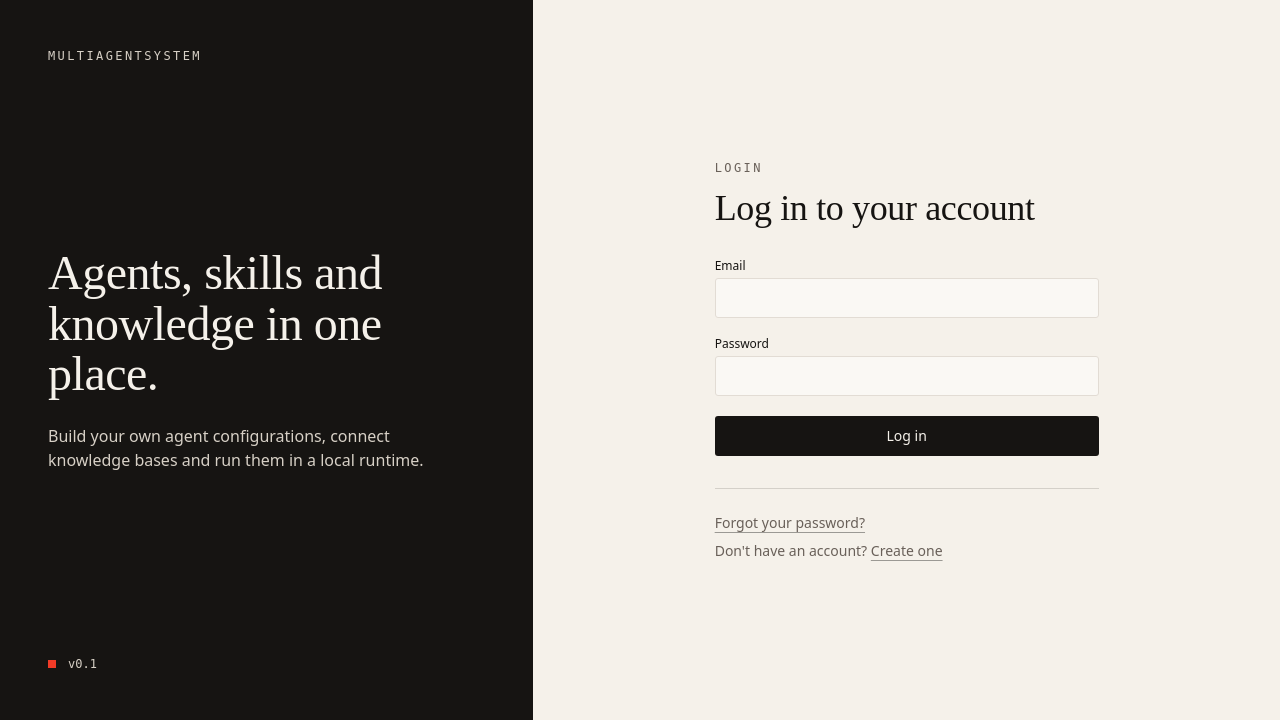
Scenario: login page › successful login opens the profile
Step 1. Type "alice@example.com" into the field labelled "Email" → x=907, y=298, box [715,278,1099,318]
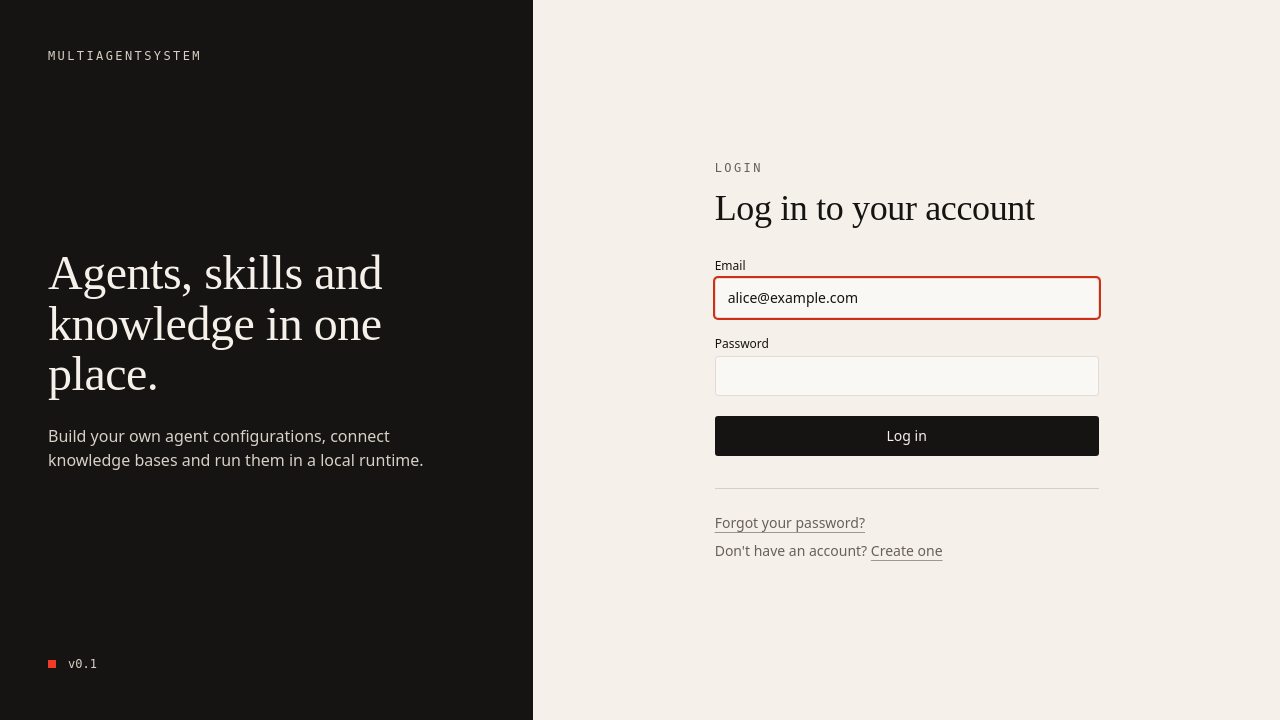
Step 2. Type "Passw0rdAA" into the password field labelled "Password" → x=907, y=376, box [715,356,1099,396]
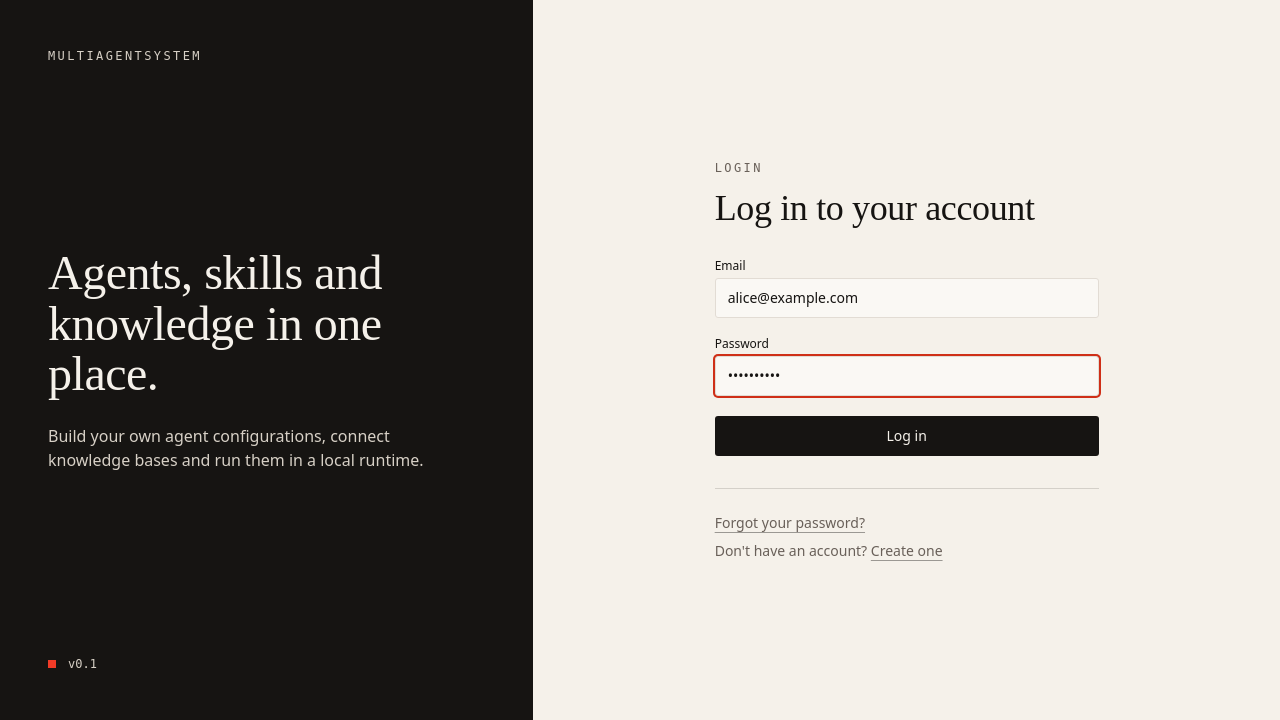
Step 3. Click the button "Log in" → x=907, y=436, box [715,416,1099,456]
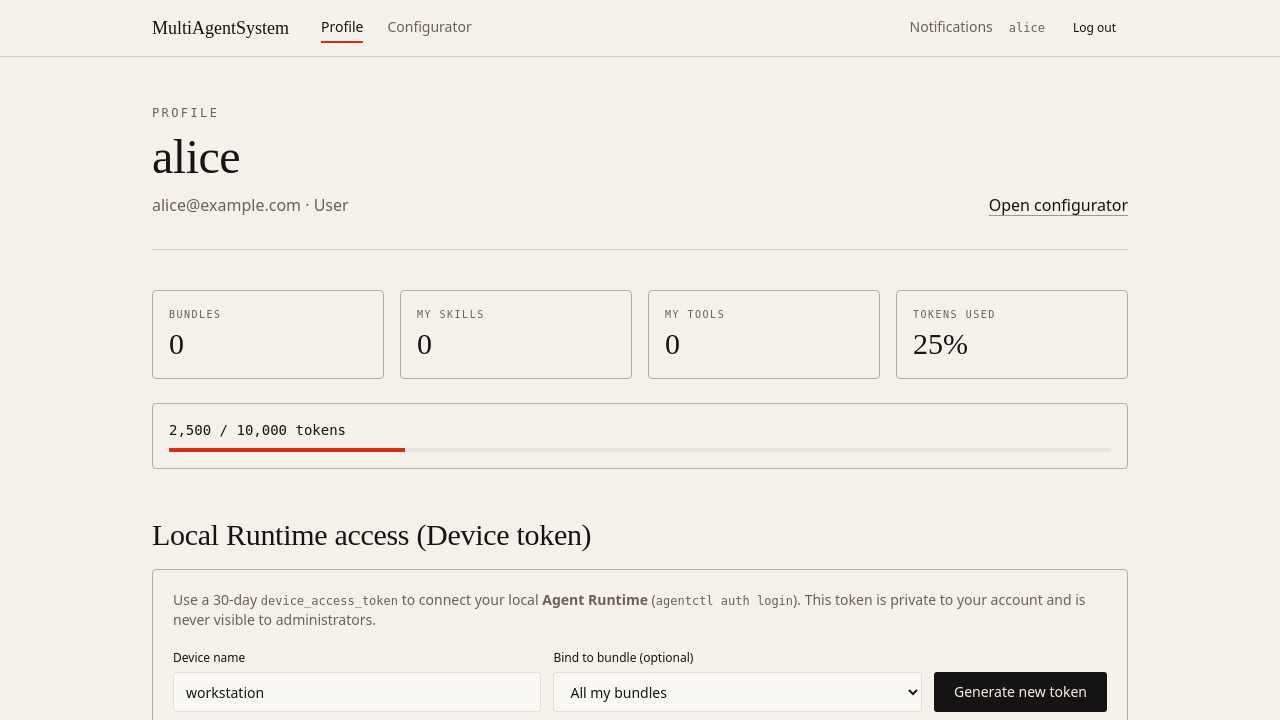
Result: the heading "alice" is shown at [152,130,240,183]
Result: the text "alice@example.com · User" is shown at [152,193,349,217]
